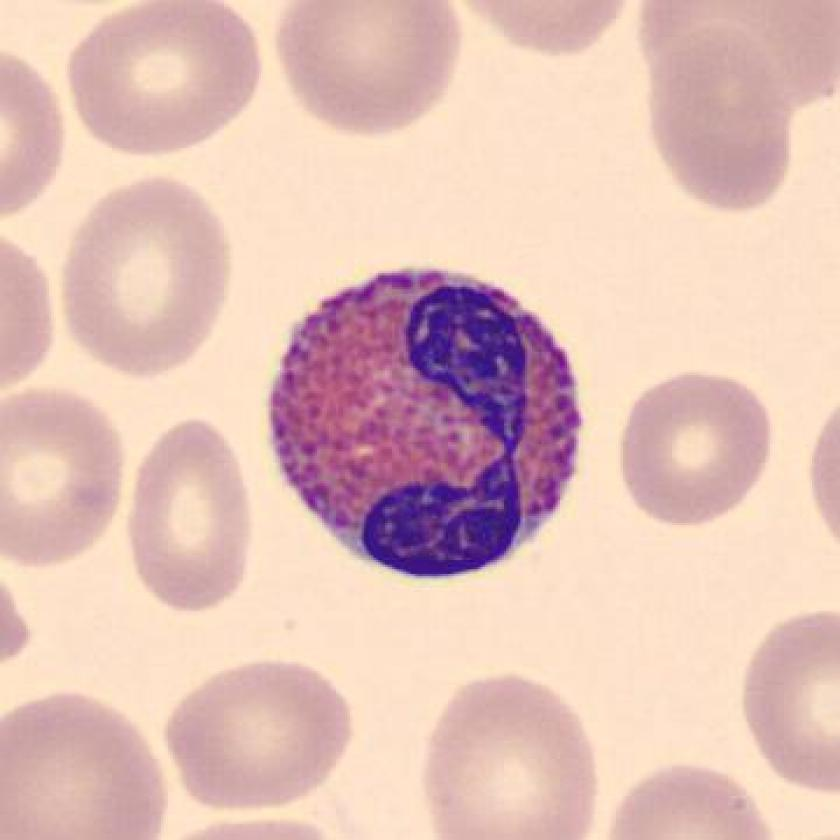eosinophil: (253, 251, 603, 591)
